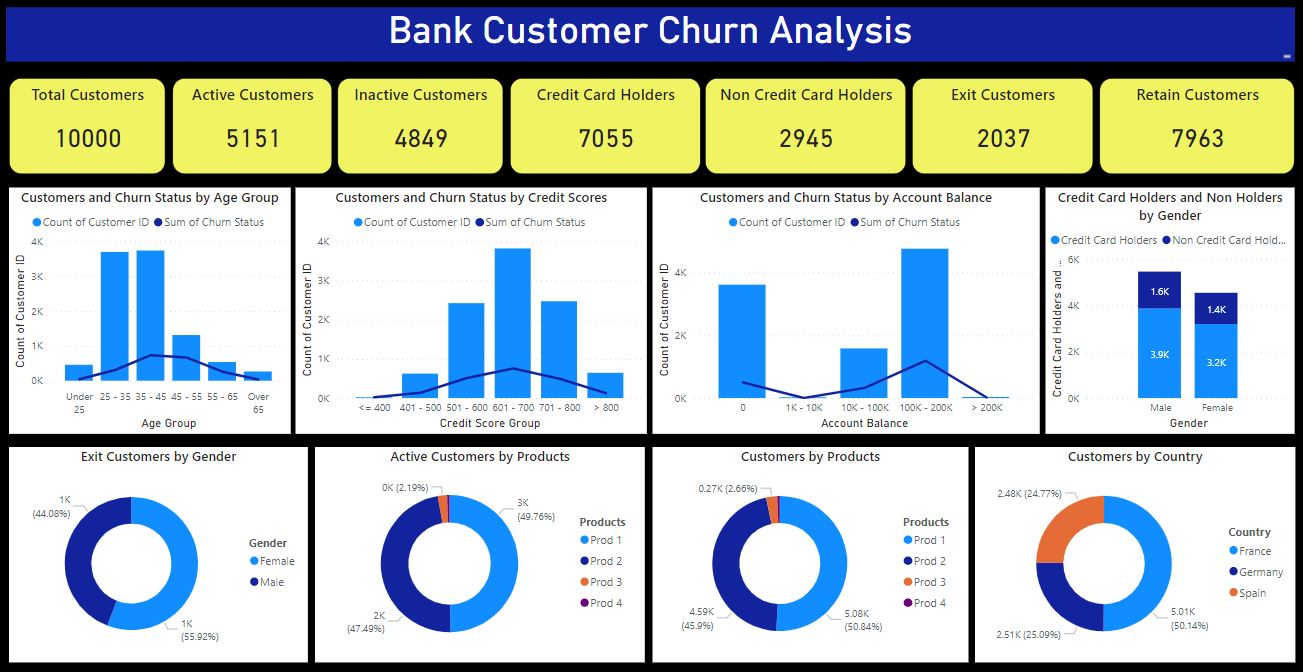

What the dashboard file says about the page in this screenshot:
{"tool":"powerbi","page":{"name":"Page 1","canvas":[1580,820],"ordinal":0},"visuals":[{"type":"textbox","title":"Bank Customer Churn Analysis","box":[11.2,13.1,1555.1,65.4],"z":0},{"type":"card","title":"Total Customers","fields":{"Values":["CountNonNull(Customer Data.Customer ID)"]},"box":[15,97.2,188.8,115.9],"z":1000},{"type":"card","title":"Active Customers","fields":{"Values":["Sum(Customer Data.Active Member)"]},"box":[211.2,97.2,192.5,115.9],"z":2000},{"type":"card","title":"Inactive Customers","fields":{"Values":["Customer Data.Inactive Customers"]},"box":[411.2,97.2,200,115.9],"z":3000},{"type":"card","title":"Non Credit Card Holders","fields":{"Values":["Customer Data.Non Credit Card Holders"]},"box":[854.2,97.2,243,115.9],"z":4000},{"type":"card","title":"Credit Card Holders","fields":{"Values":["Customer Data.Credit Card Holders"]},"box":[618.7,97.2,229.9,115.9],"z":5000},{"type":"card","title":"Exit Customers","fields":{"Values":["Customer Data.Exit Customers"]},"box":[1104.6,97.2,218.7,115.9],"z":6000},{"type":"card","title":"Retain Customers","fields":{"Values":["Customer Data.Inactive Customers"]},"box":[1330.8,97.2,235.5,115.9],"z":7000},{"type":"donutChart","title":"Customers by Products","fields":{"Category":["Customer Data.Products"],"Y":["CountNonNull(Customer Data.Customer ID)"]},"box":[790.6,543.9,381.3,259.8],"z":7001},{"type":"columnChart","title":"Credit Card Holders and Non Holders by Gender","fields":{"Y":["Customer Data.Credit Card Holders","Customer Data.Non Credit Card Holders"],"Category":["Customer Data.Gender"]},"box":[1265.4,229.9,300.9,297.2],"z":7002},{"type":"donutChart","title":"Exit Customers by Gender","fields":{"Y":["Customer Data.Exit Customers"],"Category":["Customer Data.Gender"]},"box":[15,543.9,360.7,259.8],"z":7003},{"type":"donutChart","title":"Active Customers by Products","fields":{"Category":["Customer Data.Products"],"Y":["Sum(Customer Data.Active Member)"]},"box":[383.2,543.9,398.1,259.8],"z":7004},{"type":"lineClusteredColumnComboChart","title":"Customers and Churn Status by Age Group","fields":{"Y":["CountNonNull(Customer Data.Customer ID)"],"Y2":["Sum(Customer Data.Churn Status)"],"Category":["Age Groups.Age Group"]},"box":[15,229.9,340.2,297.2],"z":7005},{"type":"lineClusteredColumnComboChart","title":"Customers and Churn Status by Credit Scores","fields":{"Y":["CountNonNull(Customer Data.Customer ID)"],"Y2":["Sum(Customer Data.Churn Status)"],"Category":["Credit Score Groups.Credit Score Group"]},"box":[360.7,229.9,424.3,297.2],"z":7006},{"type":"lineClusteredColumnComboChart","title":"Customers and Churn Status by Account Balance","fields":{"Y2":["Sum(Customer Data.Churn Status)"],"Category":["Account Balance Groups.Account Balance"],"Y":["CountNonNull(Customer Data.Customer ID)"]},"box":[790.6,229.9,467.3,297.2],"z":7007},{"type":"donutChart","title":"Customers by Country","fields":{"Category":["Customer Data.Country"],"Y":["CountNonNull(Customer Data.Customer ID)"]},"box":[1179.4,543.9,386.9,259.8],"z":7008}]}

Visuals, with their boxes in screenshot pixels (x1, y1, x2, y2), scaled from the page's 1580x820 canvas onto the 1303x672 screenshot:
"Bank Customer Churn Analysis" textbox: x1=9, y1=11, x2=1292, y2=64
"Total Customers" card: x1=12, y1=80, x2=168, y2=175
"Active Customers" card: x1=174, y1=80, x2=333, y2=175
"Inactive Customers" card: x1=339, y1=80, x2=504, y2=175
"Non Credit Card Holders" card: x1=704, y1=80, x2=905, y2=175
"Credit Card Holders" card: x1=510, y1=80, x2=700, y2=175
"Exit Customers" card: x1=911, y1=80, x2=1091, y2=175
"Retain Customers" card: x1=1097, y1=80, x2=1292, y2=175
"Customers by Products" donutChart: x1=652, y1=446, x2=966, y2=659
"Credit Card Holders and Non Holders by Gender" columnChart: x1=1044, y1=188, x2=1292, y2=432
"Exit Customers by Gender" donutChart: x1=12, y1=446, x2=310, y2=659
"Active Customers by Products" donutChart: x1=316, y1=446, x2=644, y2=659
"Customers and Churn Status by Age Group" lineClusteredColumnComboChart: x1=12, y1=188, x2=293, y2=432
"Customers and Churn Status by Credit Scores" lineClusteredColumnComboChart: x1=297, y1=188, x2=647, y2=432
"Customers and Churn Status by Account Balance" lineClusteredColumnComboChart: x1=652, y1=188, x2=1037, y2=432
"Customers by Country" donutChart: x1=973, y1=446, x2=1292, y2=659
